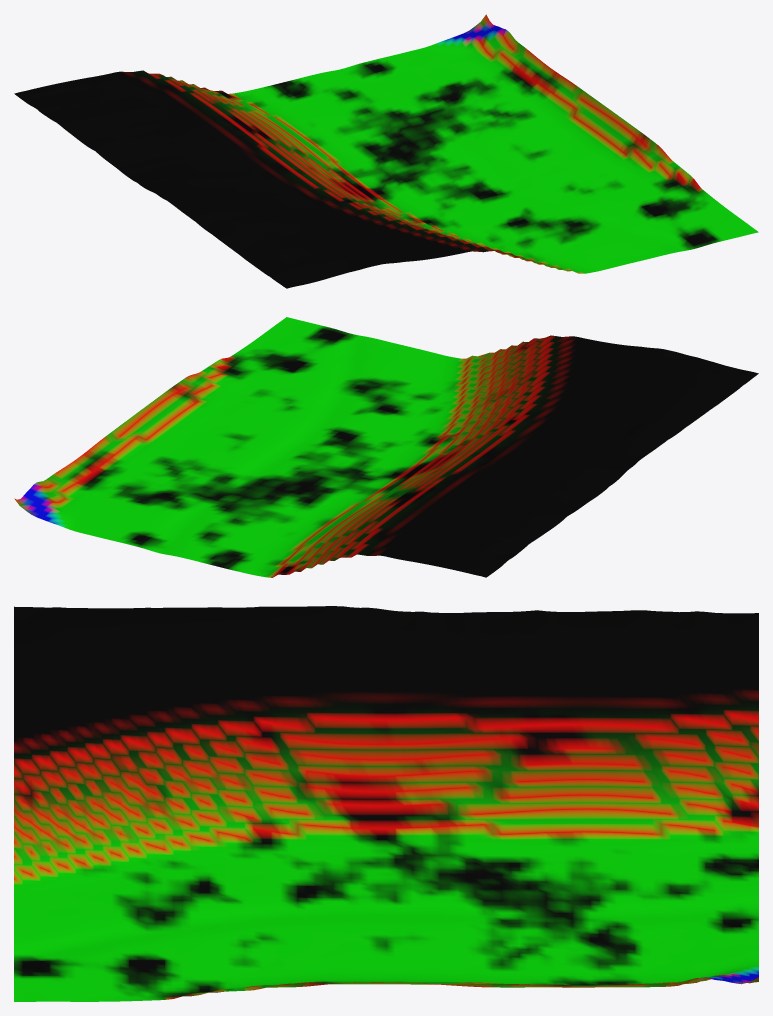
Rendered from SM_RiyadhNights_Terrain_0_0.fbx.
The picture shows the model from 3 angles, top to bottom: view 1: azimuth 30°, elevation 25°; view 2: azimuth 150°, elevation 25°; view 3: azimuth 270°, elevation 25°; orthographic projection. The views are drawn at different scales.
Visible parts, largest first — view 1: SM_RiyadhNights_Terrain_0_0; view 2: SM_RiyadhNights_Terrain_0_0; view 3: SM_RiyadhNights_Terrain_0_0.
Part boxes in pixels (box(x1,y1,x2,y2)): SM_RiyadhNights_Terrain_0_0: box(14, 14, 758, 288); SM_RiyadhNights_Terrain_0_0: box(14, 317, 758, 577); SM_RiyadhNights_Terrain_0_0: box(14, 606, 758, 1001).
Size of the model in its own units: 50400 by 6430 by 50400.
